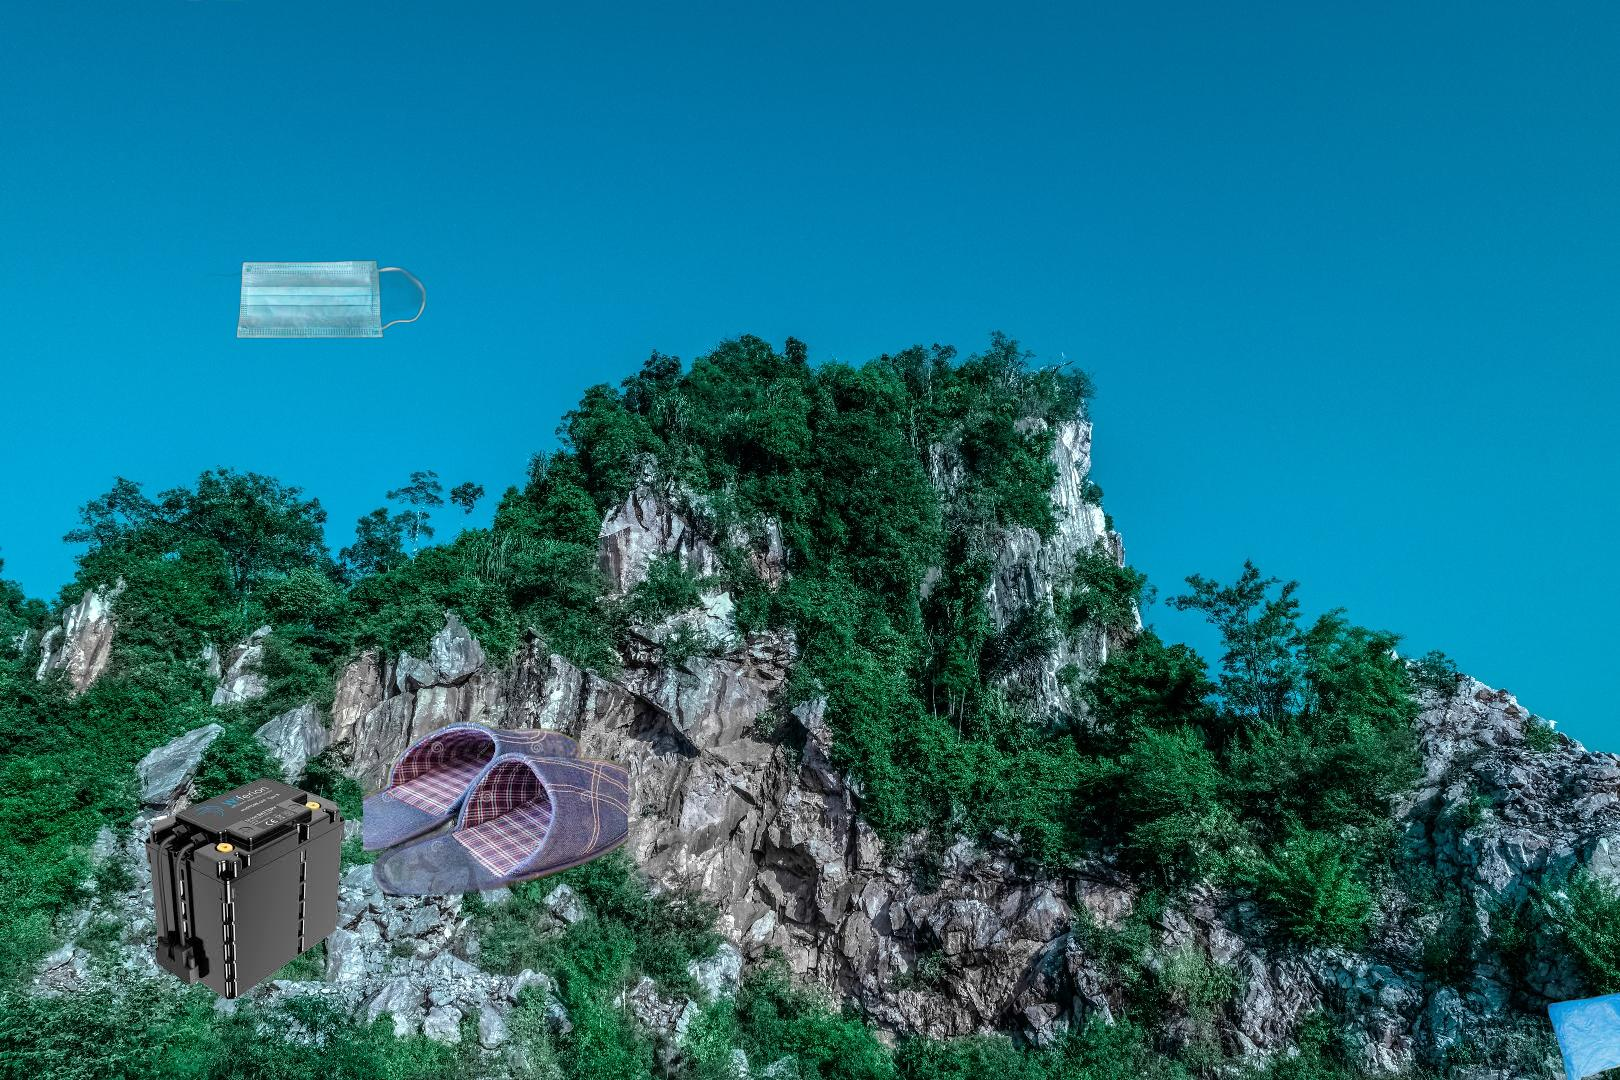battery: (142, 776, 348, 1000)
plastic-bag: (1544, 975, 1620, 1080)
shoes: (363, 720, 628, 909)
trash: (201, 258, 425, 341)
